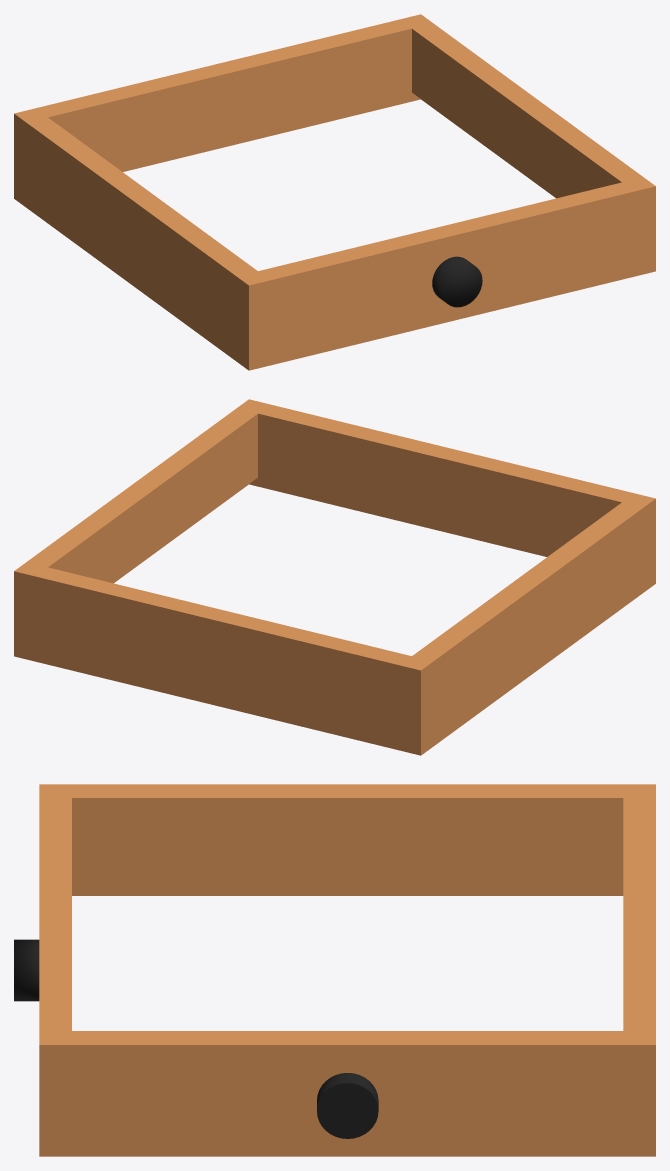
File: box_outer.glb
3 views of the same model, one above another, from view 1: azimuth 30°, elevation 25°; view 2: azimuth 150°, elevation 25°; view 3: azimuth 270°, elevation 25° (orthographic). The views are drawn at different scales.
Visible parts, largest first — view 1: box, knob.l; view 2: box; view 3: box, knob.r, knob.l.
Part boxes in pixels (x1,y1,x2,y2): box: (14,14,655,370); knob.l: (432,256,482,307); box: (14,399,655,755); box: (39,784,655,1156); knob.r: (317,1073,378,1138); knob.l: (14,939,39,1001).
Bounding box in the file's own units: 20.79 × 4 × 20.83.
